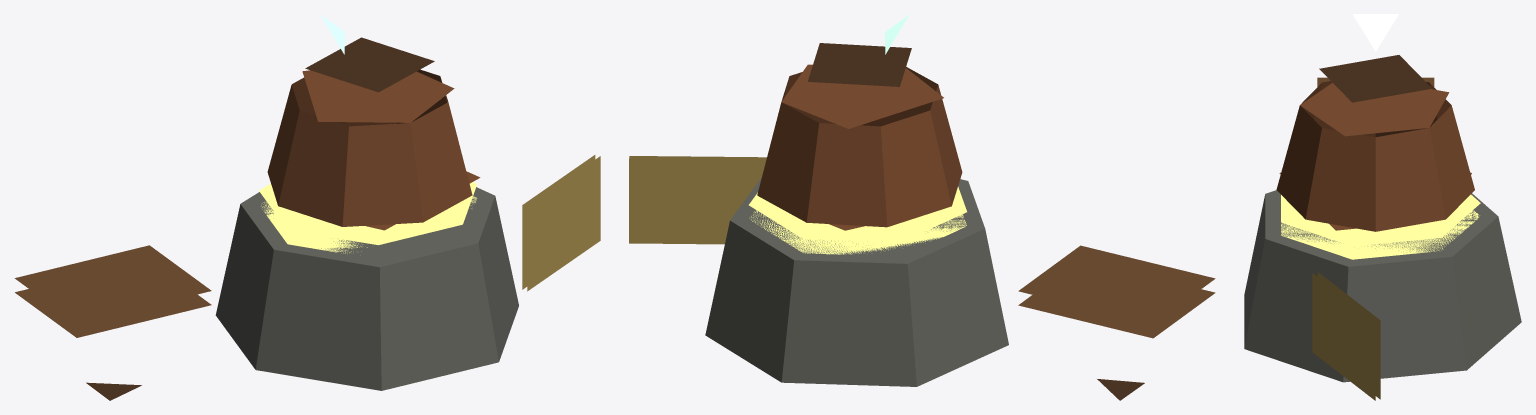
File: prop_herb_pot_lod1.glb
The picture shows the model from 3 angles, left to right: view 1: azimuth 30°, elevation 25°; view 2: azimuth 150°, elevation 25°; view 3: azimuth 270°, elevation 25°; orthographic projection. The views are drawn at different scales.
Parts seen in each view (by area): view 1: prop_herb_pot_lod1; view 2: prop_herb_pot_lod1; view 3: prop_herb_pot_lod1.
Boxes of the visible parts, x1,y1,x2,y2 form: prop_herb_pot_lod1: (14,14,600,400); prop_herb_pot_lod1: (629,14,1215,400); prop_herb_pot_lod1: (1244,14,1521,400).
Bounding box in the file's own units: 2.05 × 1.1 × 0.9505.
